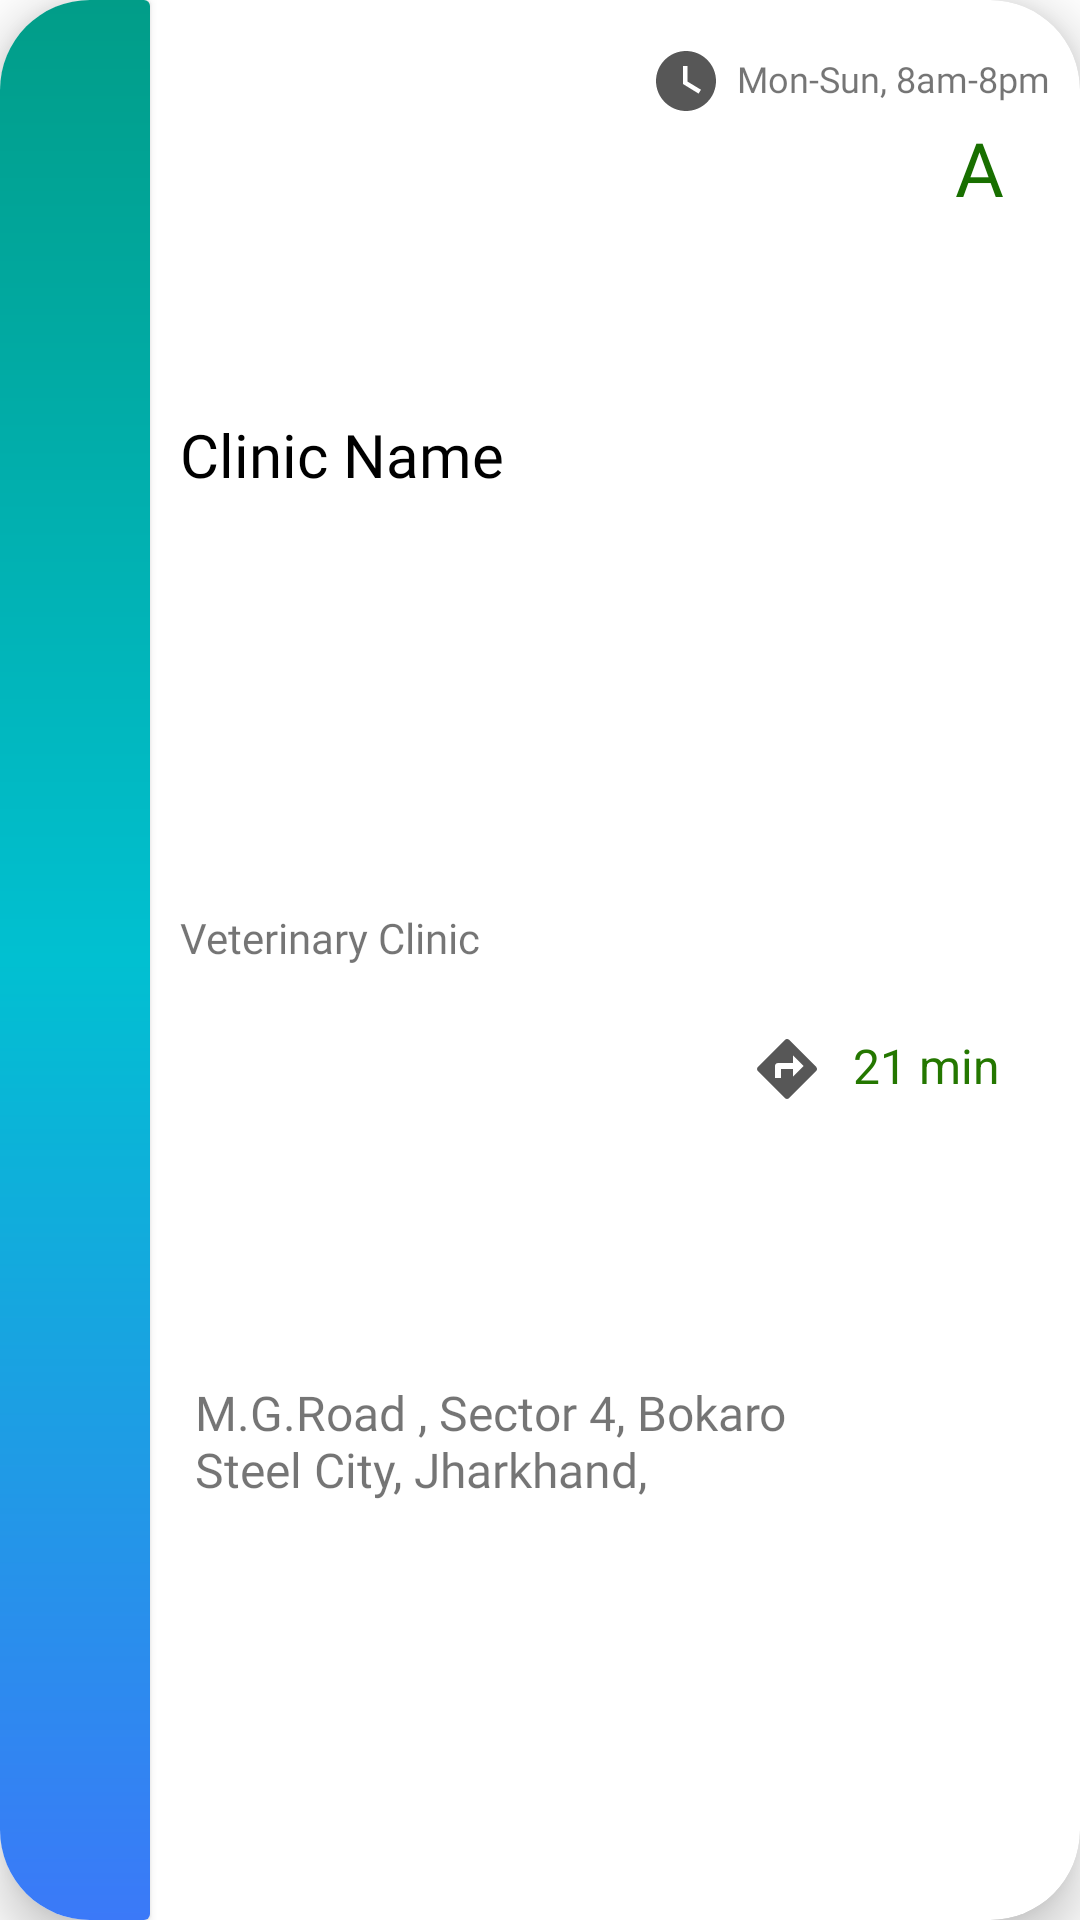

Icons on this 1080w x 1920h Android screen, each with the point to tap as point (x, y):
directions: point (787, 1069)
watch later: point (686, 81)
